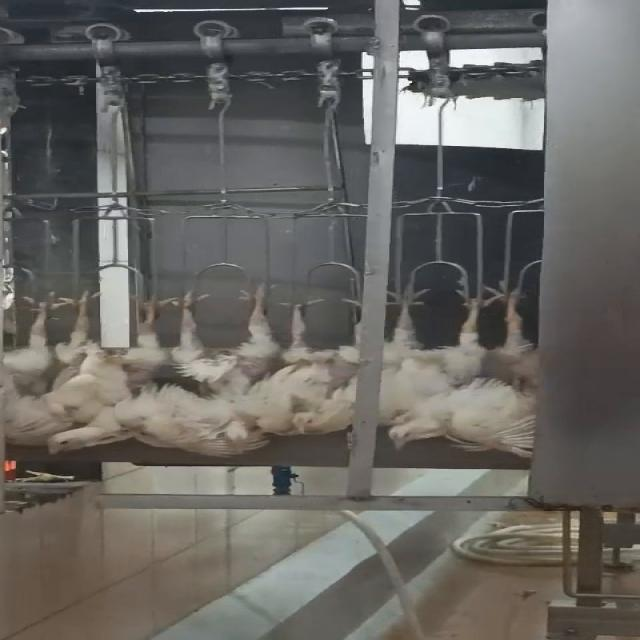chicken: (151, 284, 288, 458), (41, 289, 160, 456), (379, 283, 480, 449), (260, 295, 366, 439), (0, 295, 83, 451), (487, 282, 539, 464)
